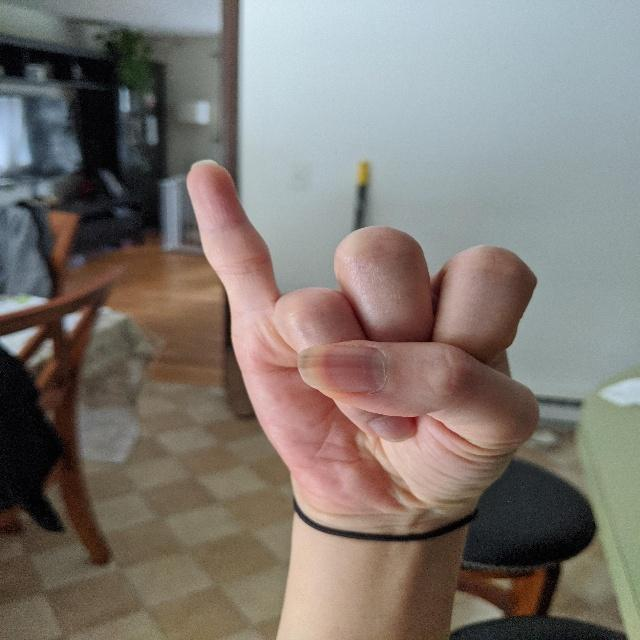I: (181, 155, 550, 524)
